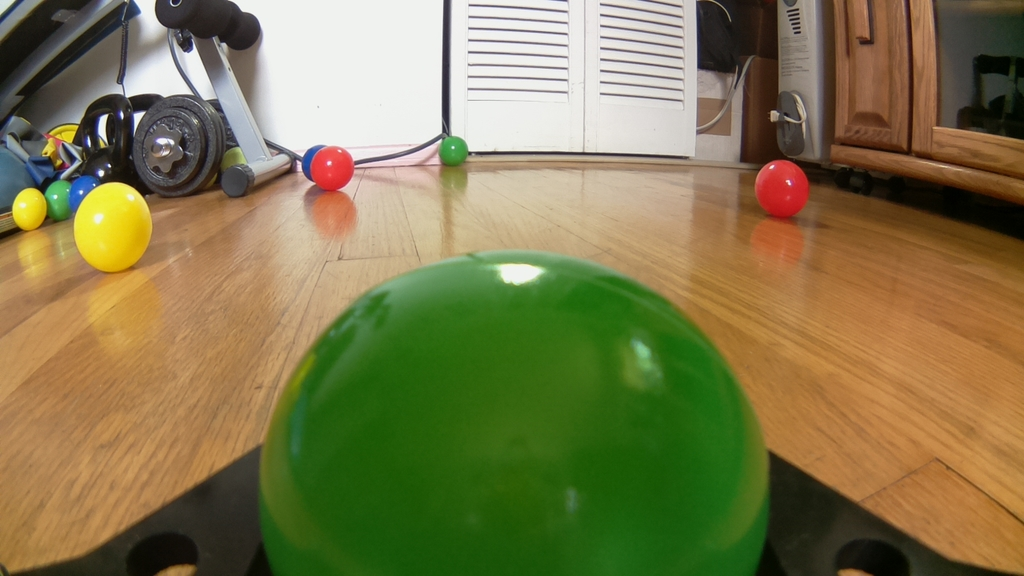ball: (305, 144, 355, 192)
